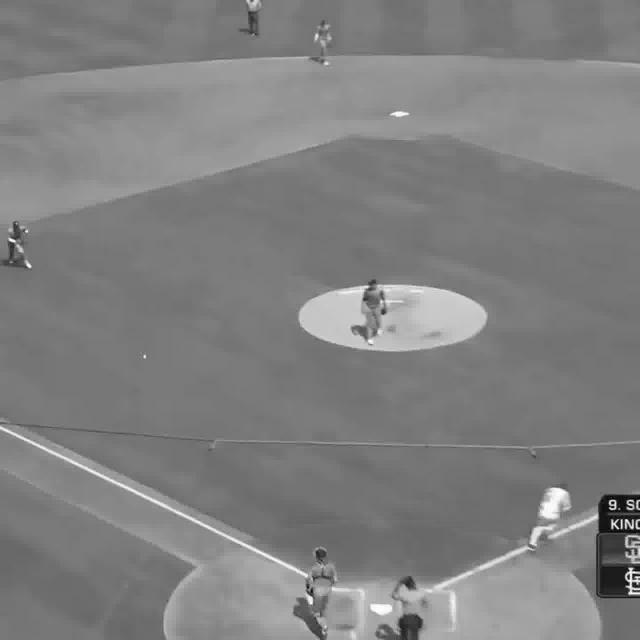base: (370, 601, 394, 618), (388, 110, 409, 120)
baseball: (142, 356, 147, 359)
shoe: (22, 261, 34, 269), (367, 338, 375, 348), (528, 545, 538, 553), (543, 535, 554, 541), (379, 328, 384, 335)
